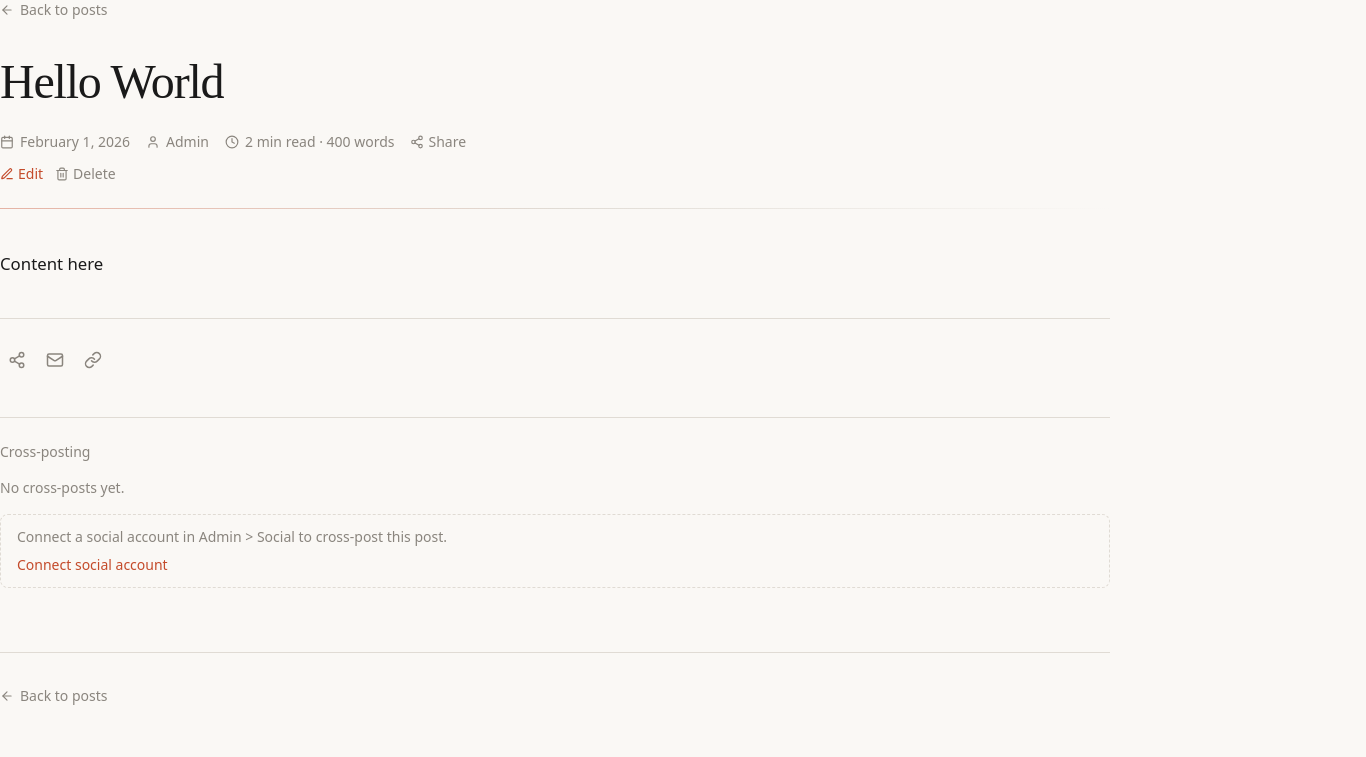
PostPage › shows error on delete failure
Click the button "Delete". click: click(85, 174)
box: [55,164,116,184]
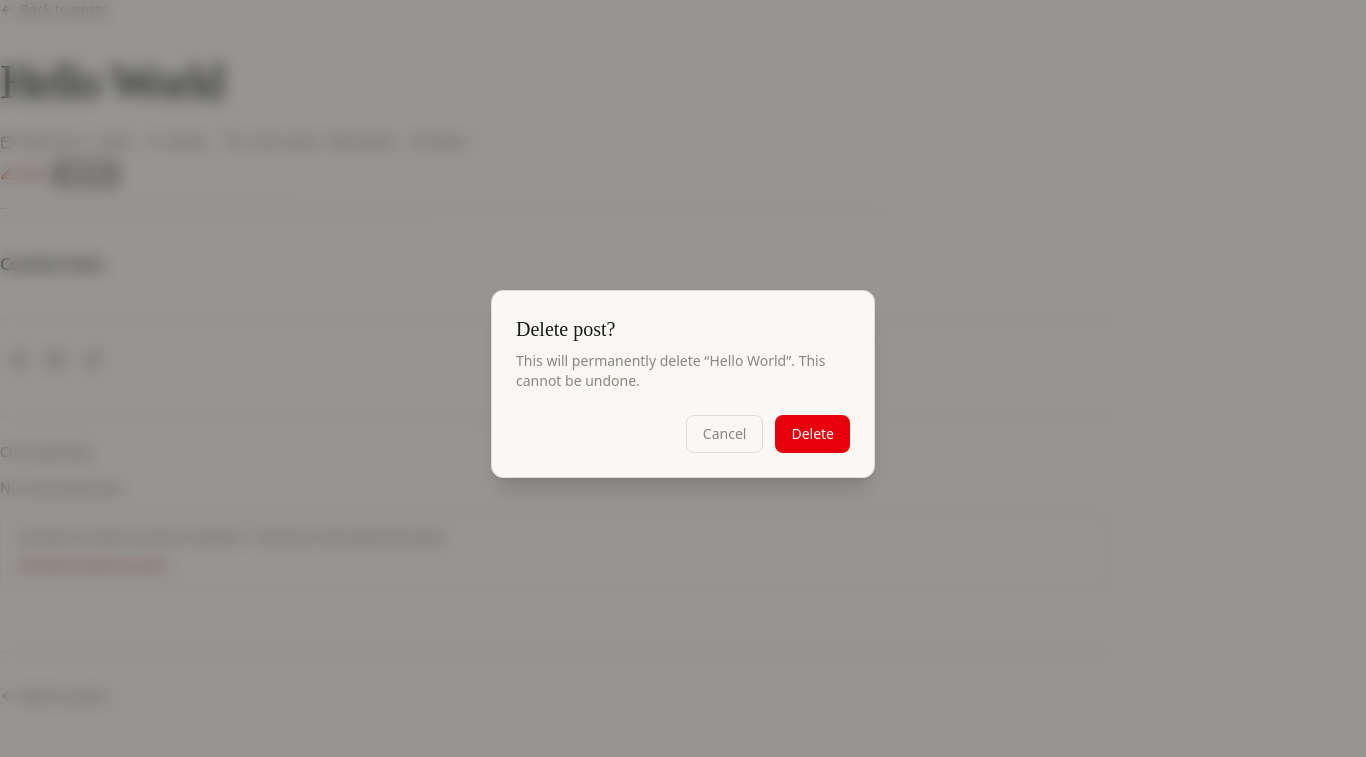
Click the button with test id "confirm-delete". click: click(813, 434)
box: [775,415,850,453]
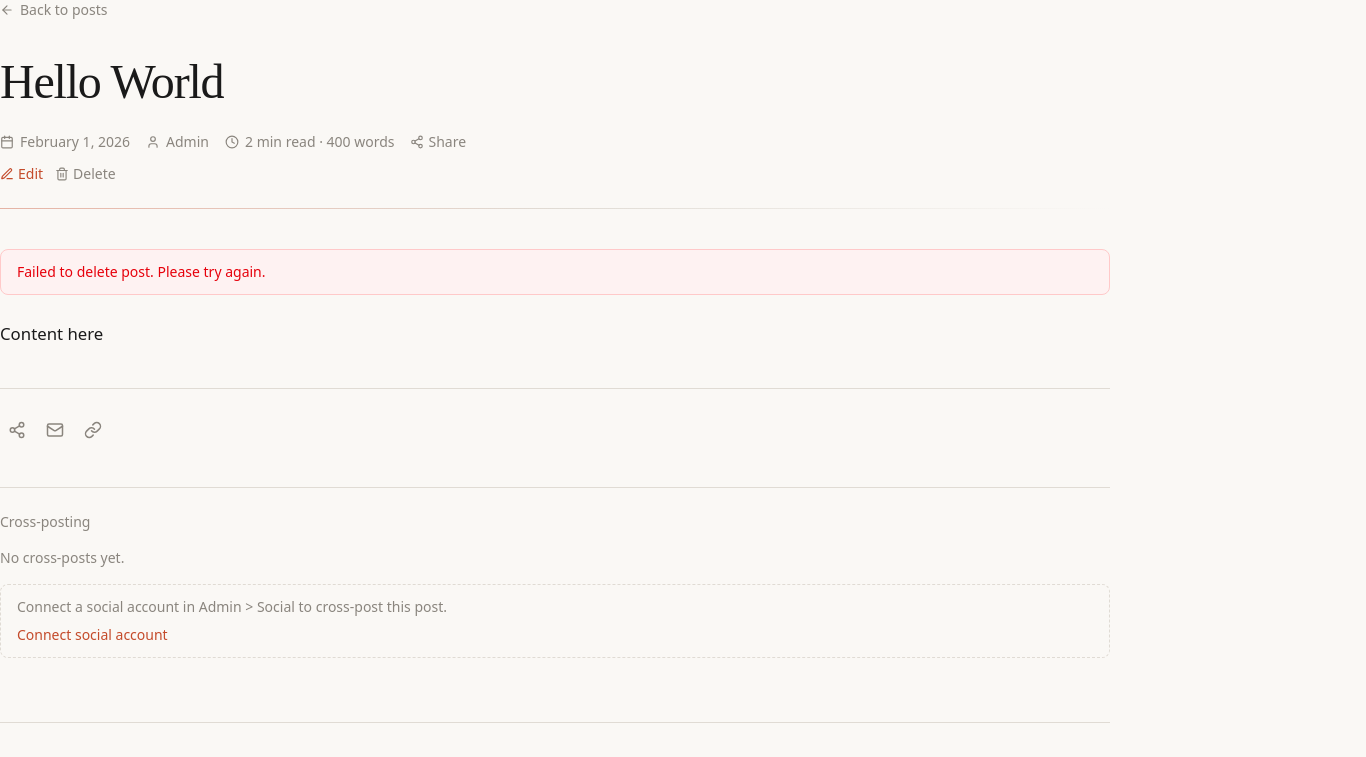
expect the text "Delete post?" is not shown: met
expect the text "Failed to delete post. Please try again." is shown: met, box [0,249,1110,295]
